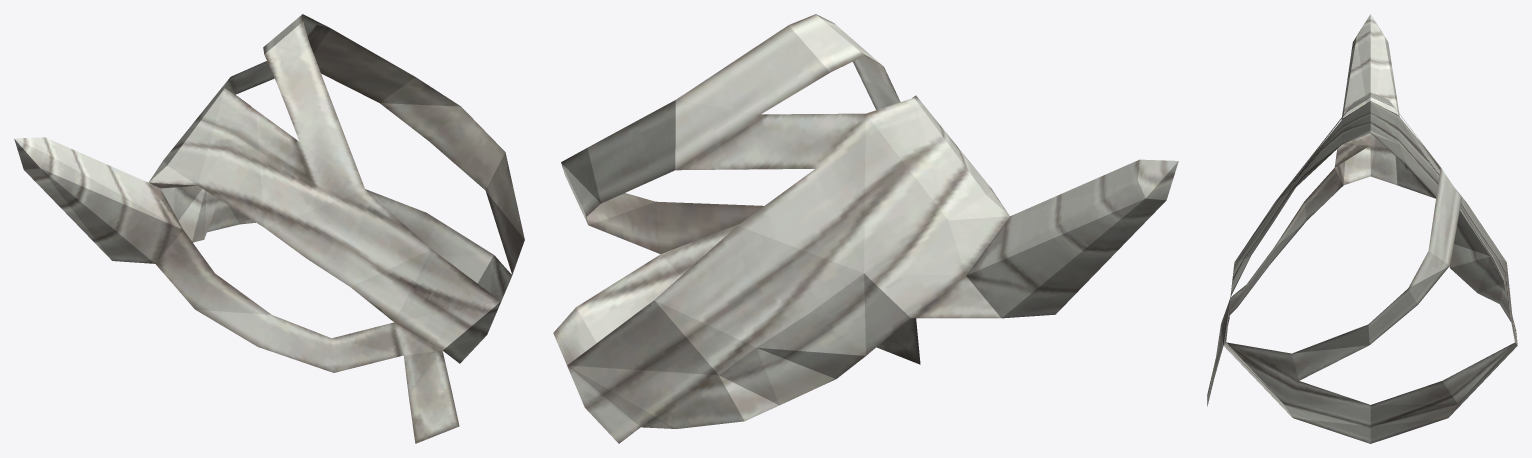
The model's file is Chameleon_mummyHead.obj.
3 views of the same model, side by side, from view 1: azimuth 30°, elevation 25°; view 2: azimuth 150°, elevation 25°; view 3: azimuth 270°, elevation 25° (orthographic). The views are drawn at different scales.
Parts seen in each view (by area): view 1: Chameleon_mummyHead_tri; view 2: Chameleon_mummyHead_tri; view 3: Chameleon_mummyHead_tri.
Part boxes in pixels (x1,y1,x2,y2): Chameleon_mummyHead_tri: (14,14,524,443); Chameleon_mummyHead_tri: (553,14,1178,443); Chameleon_mummyHead_tri: (1207,14,1517,443).
Size of the model in its own units: 0.4078 by 0.2819 by 0.2678.
Materials: 1 (1 with a texture image).
